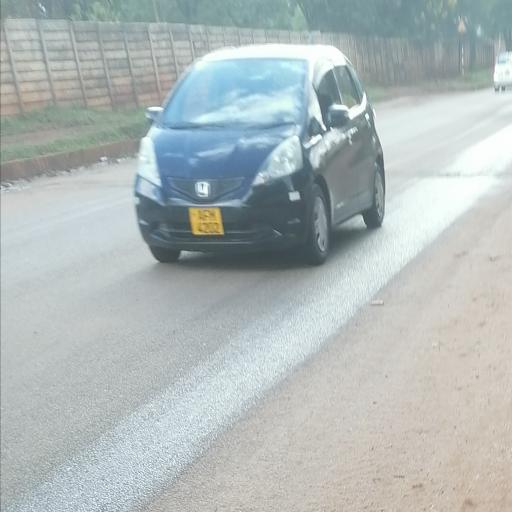number-plates: (186, 203, 226, 237)
